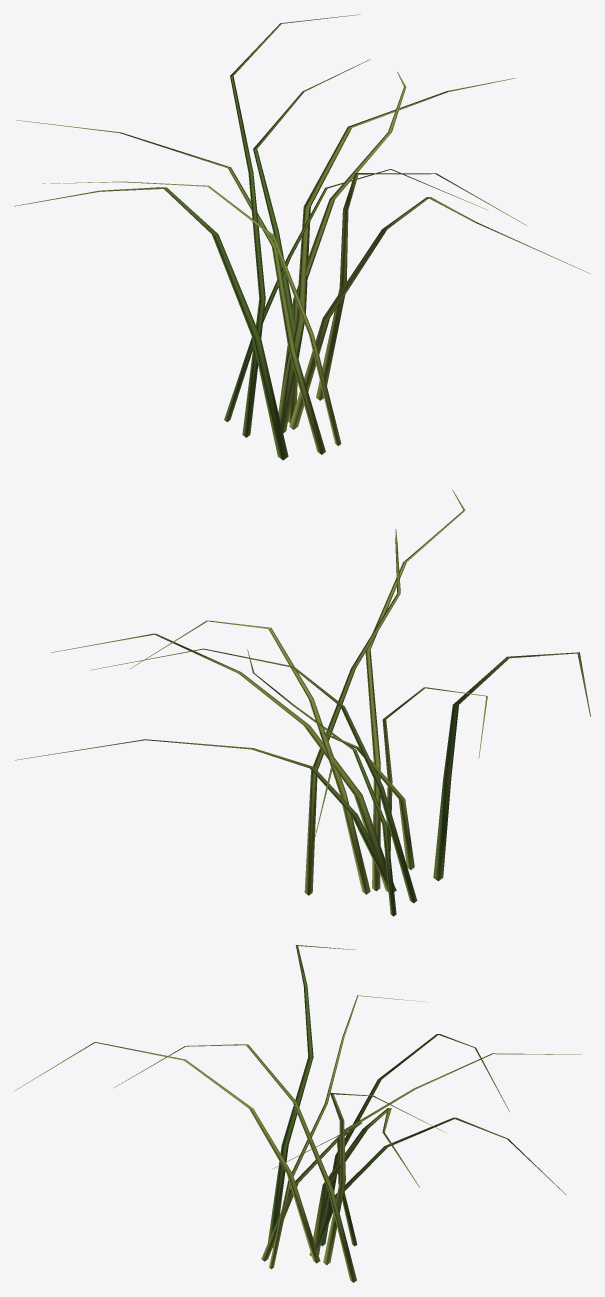
The model's file is filament-1-lod.glb.
3 views of the same model, one above another, from view 1: azimuth 30°, elevation 25°; view 2: azimuth 150°, elevation 25°; view 3: azimuth 270°, elevation 25° (orthographic). The views are drawn at different scales.
Parts seen in each view (by area): view 1: Filament_1_LOD; view 2: Filament_1_LOD; view 3: Filament_1_LOD.
Part boxes in pixels (<box>): Filament_1_LOD: <box>14,14,590,460</box>; Filament_1_LOD: <box>15,489,590,916</box>; Filament_1_LOD: <box>14,945,581,1282</box>.
Size of the model in its own units: 1.17 by 0.6418 by 1.35.
